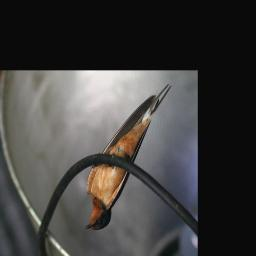Swallow: (81, 83, 175, 235)
